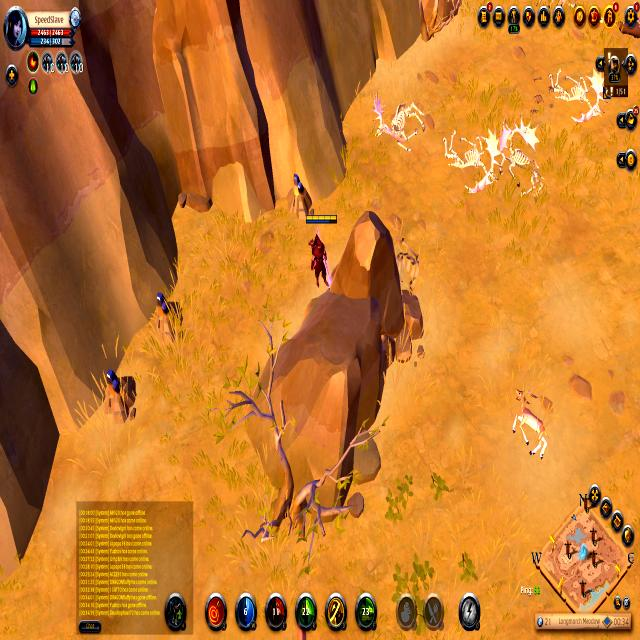mob: (506, 370, 551, 465)
player: (93, 360, 142, 424), (149, 286, 191, 345), (282, 166, 317, 229)
red: (302, 209, 339, 294)
